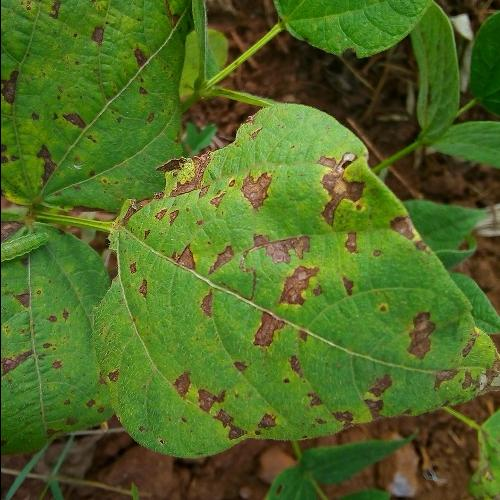mozaik: (89, 52, 456, 464)
